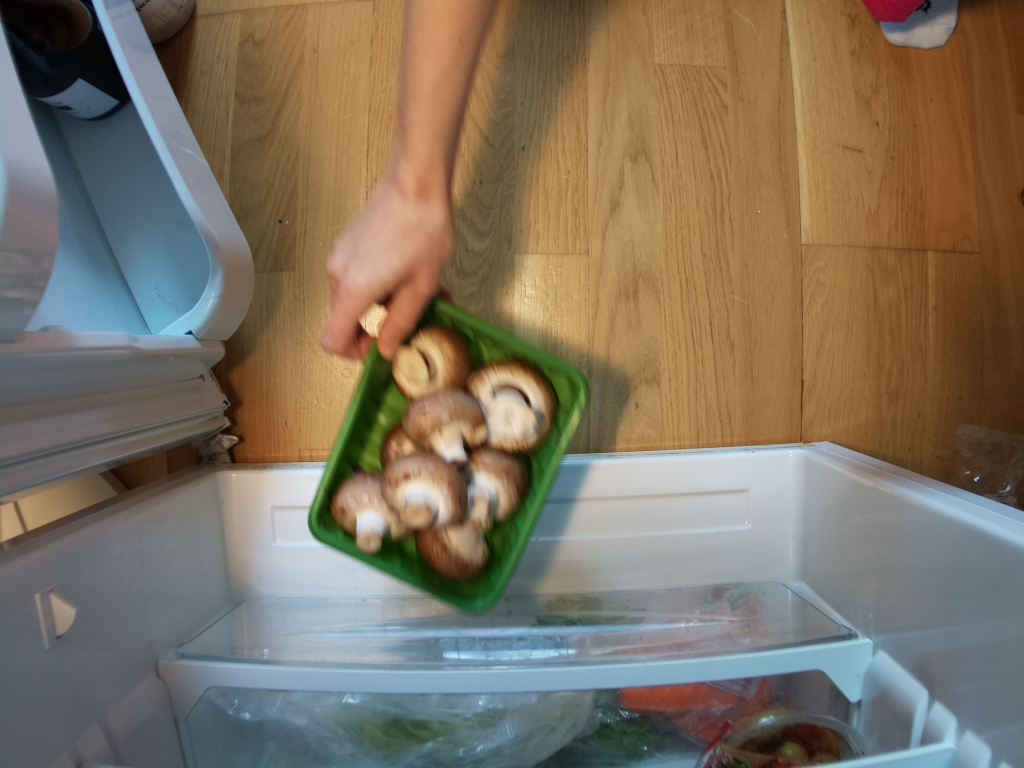mushrooms: (311, 293, 592, 614)
